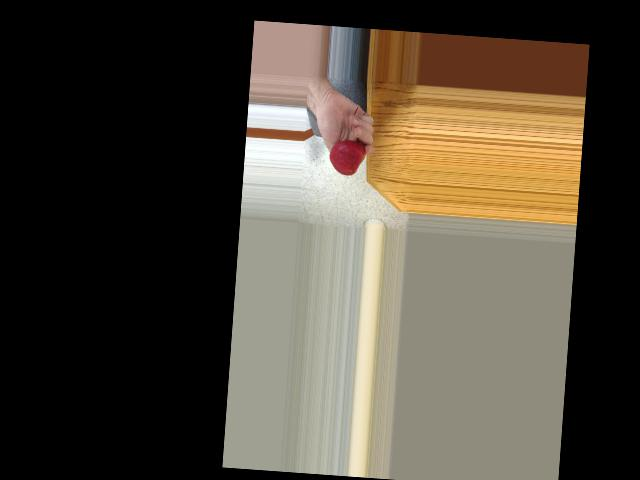apple: (328, 138, 365, 178)
